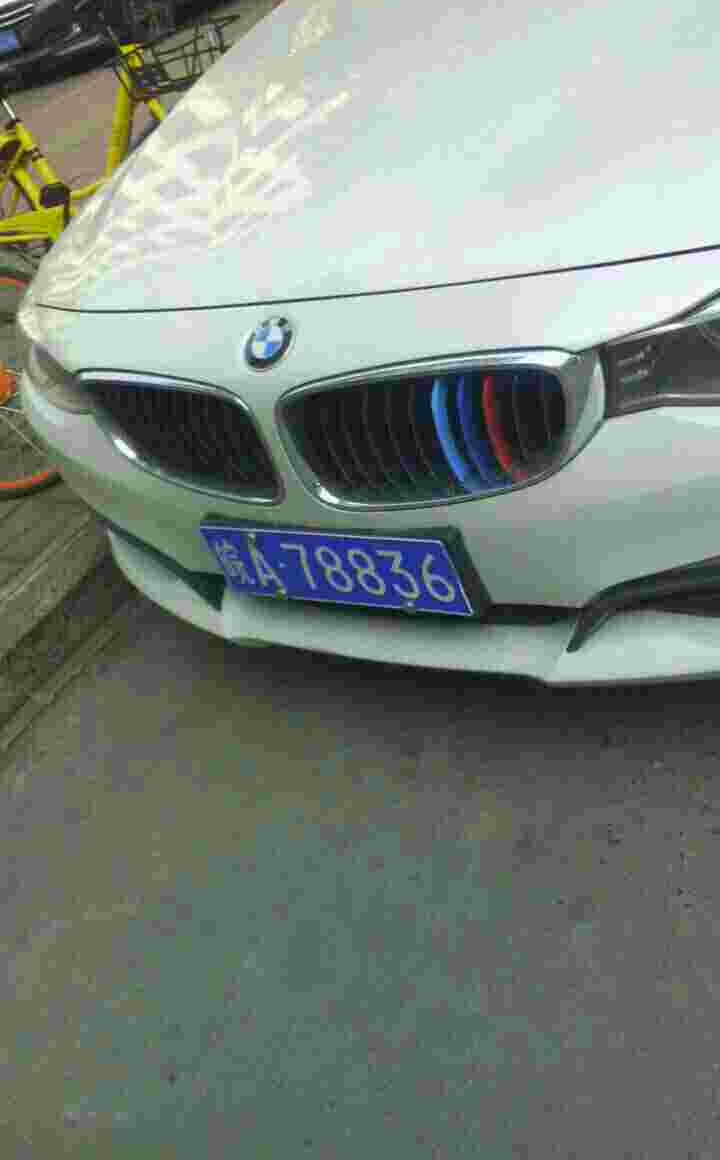car: (207, 529, 468, 612)
